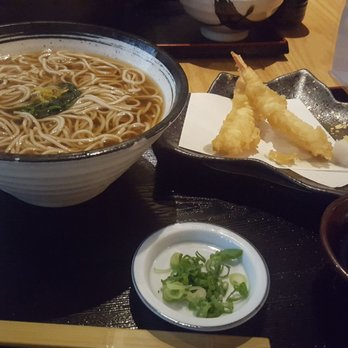Soba: (1, 50, 170, 152)
